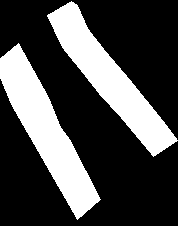parkingspot: (47, 1, 177, 156), (0, 43, 100, 219)
